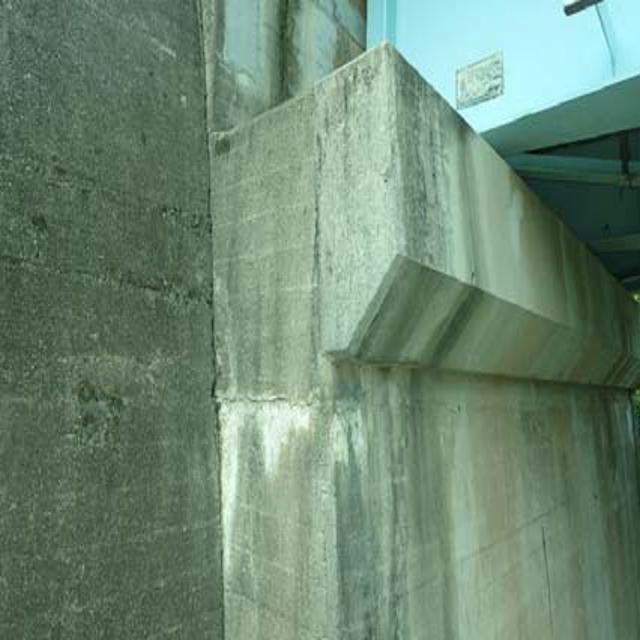freelime: (206, 377, 317, 563)
